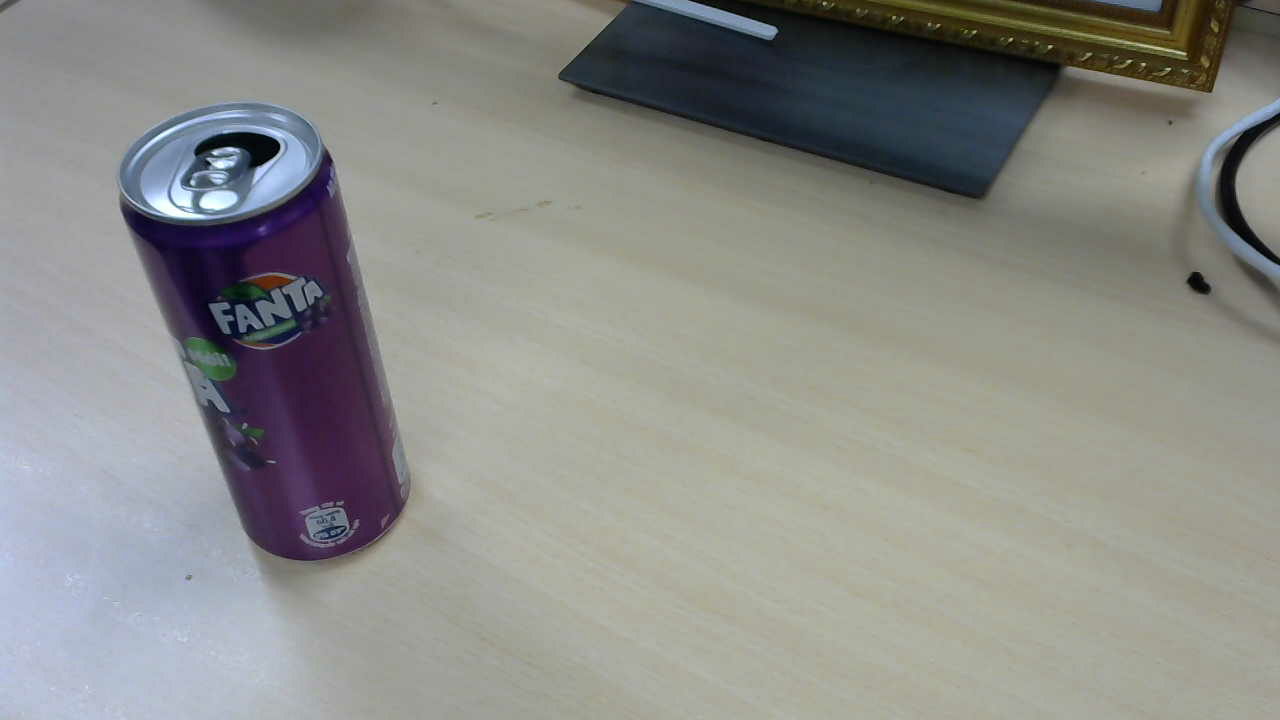Fanta: (122, 106, 417, 568)
